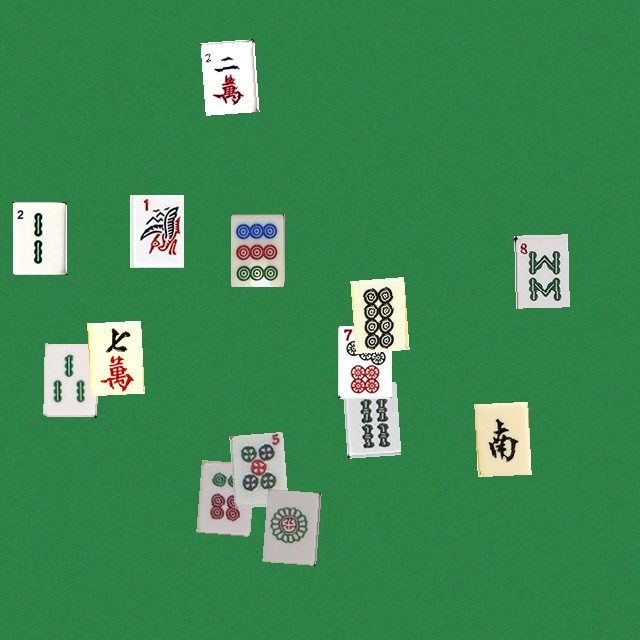tile: (43, 343, 97, 416), (474, 401, 528, 474), (196, 460, 250, 533), (230, 213, 284, 286), (200, 39, 254, 112), (229, 431, 283, 504), (87, 320, 141, 393), (342, 382, 396, 455), (337, 325, 391, 398), (514, 234, 568, 307), (350, 277, 404, 350), (129, 194, 183, 267), (12, 201, 66, 274), (262, 489, 316, 562)
